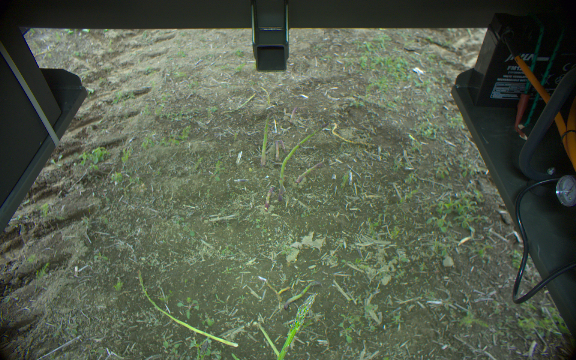aspa: (135, 268, 237, 349), (277, 121, 330, 202), (272, 294, 319, 358), (257, 107, 276, 165), (290, 157, 328, 186), (284, 278, 320, 308), (255, 325, 279, 355), (263, 184, 275, 209)
